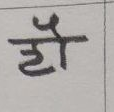au_matra: (40, 15, 73, 68)
